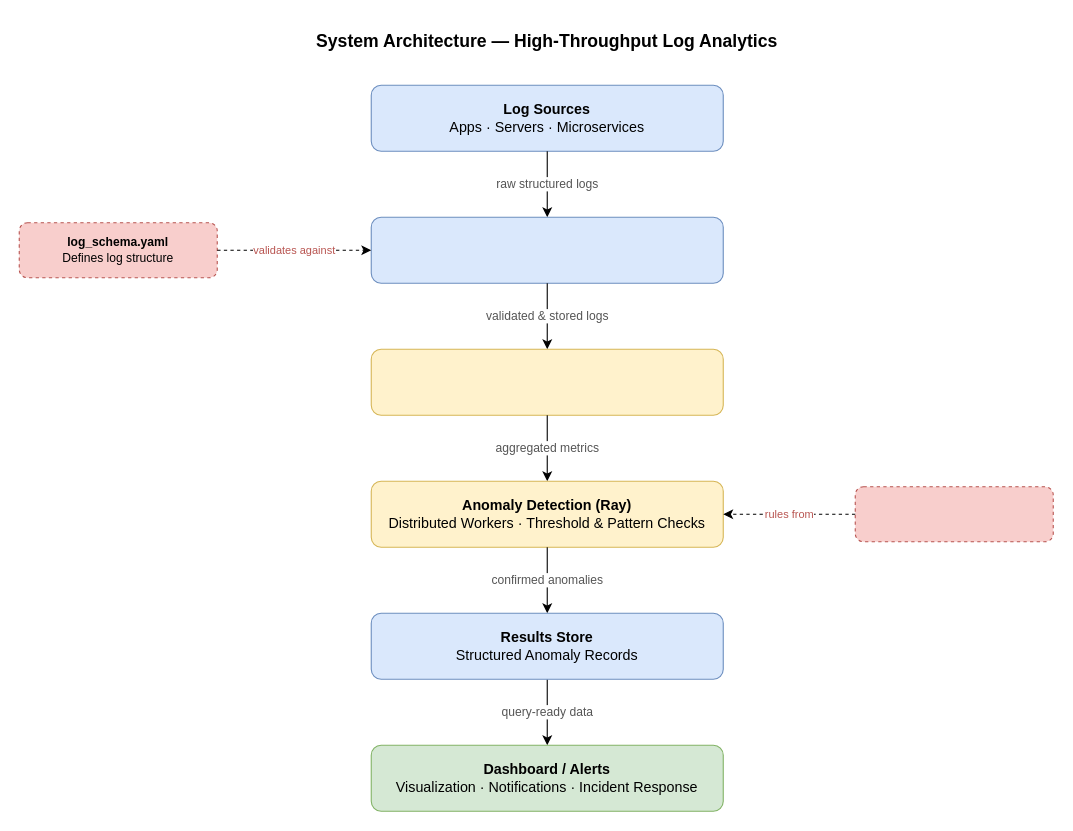
Some shapes in this 1073 by 831 pixel diagram are drawn without their labels. Each missing label, with the centre of its shape:
"anomaly_schema.yaml Defines anomaly structure" goes at (953,514).
"Dask Processing Layer Parallel Partitioned Reads · Cleaning · Aggregation" goes at (546,381).
"Log Ingestion Layer CSV / Parquet File Store" goes at (546,249).
